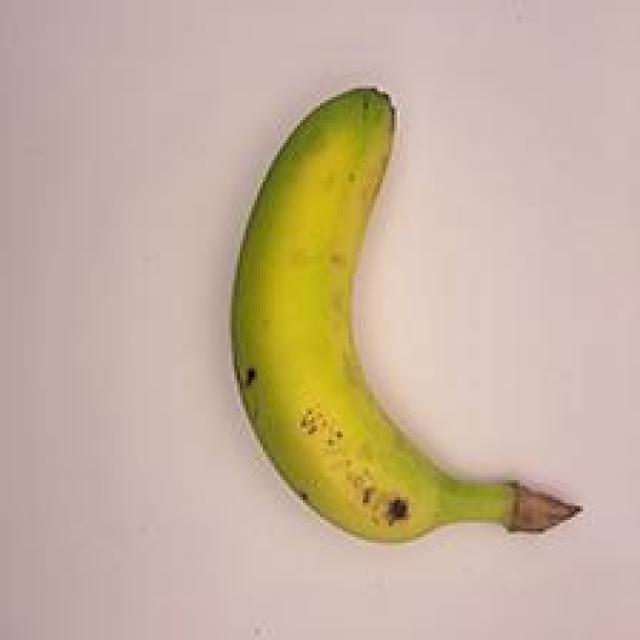Unripe: (170, 43, 599, 574)
